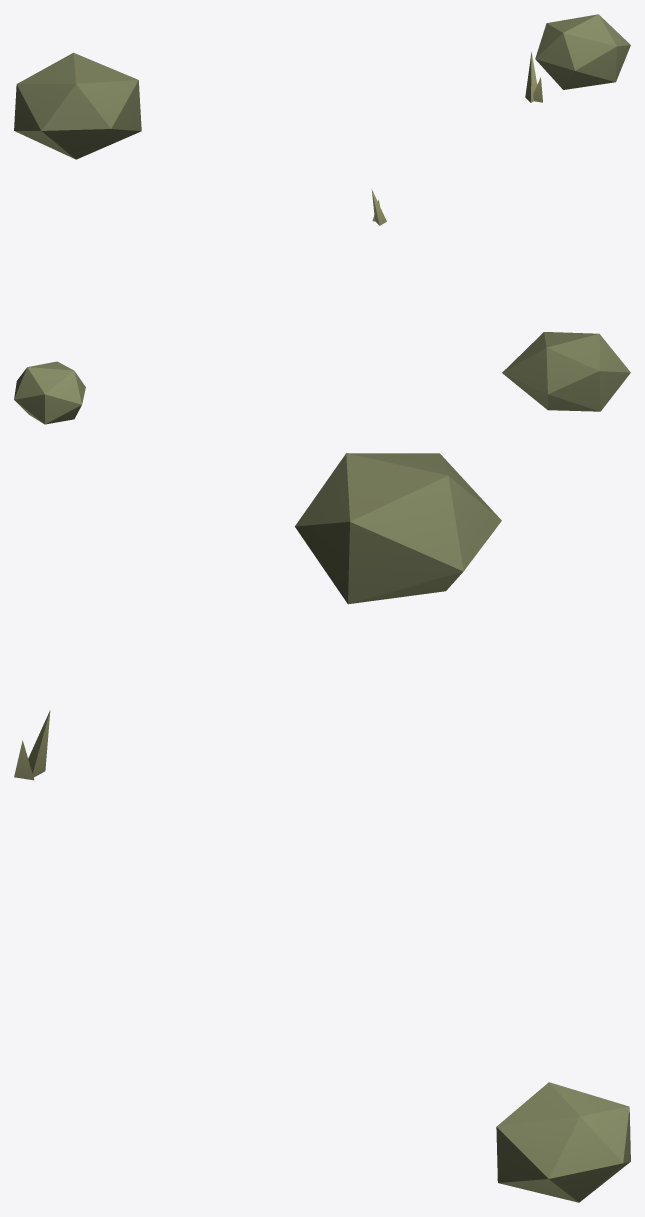
The model's file is coast_land_scatter_c14_18_lod1.glb.
3 renders of one model, top to bottom at view 1: azimuth 30°, elevation 25°; view 2: azimuth 150°, elevation 25°; view 3: azimuth 270°, elevation 25°, orthographic. The views are drawn at different scales.
Visible parts, largest first — view 1: coast_land_scatter_c14_18_lod1; view 2: coast_land_scatter_c14_18_lod1; view 3: coast_land_scatter_c14_18_lod1.
Boxes of the visible parts, x1=… form: coast_land_scatter_c14_18_lod1: x1=14, y1=14, x2=630, y2=159; coast_land_scatter_c14_18_lod1: x1=14, y1=189, x2=630, y2=424; coast_land_scatter_c14_18_lod1: x1=14, y1=453, x2=630, y2=1202.
Bounding box in the file's own units: 14.51 × 4.26 × 7.52.
